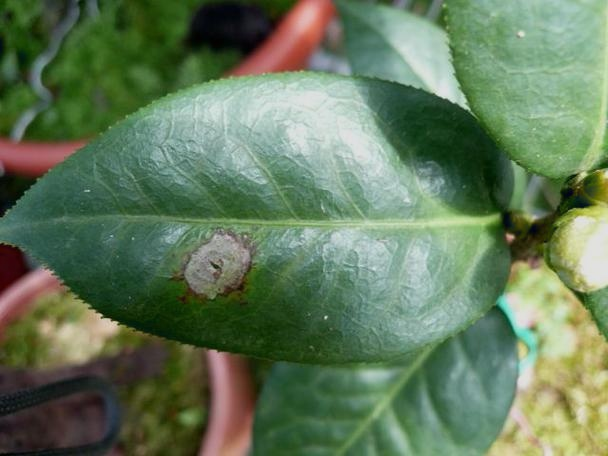Anthracnose: (196, 224, 285, 298)
